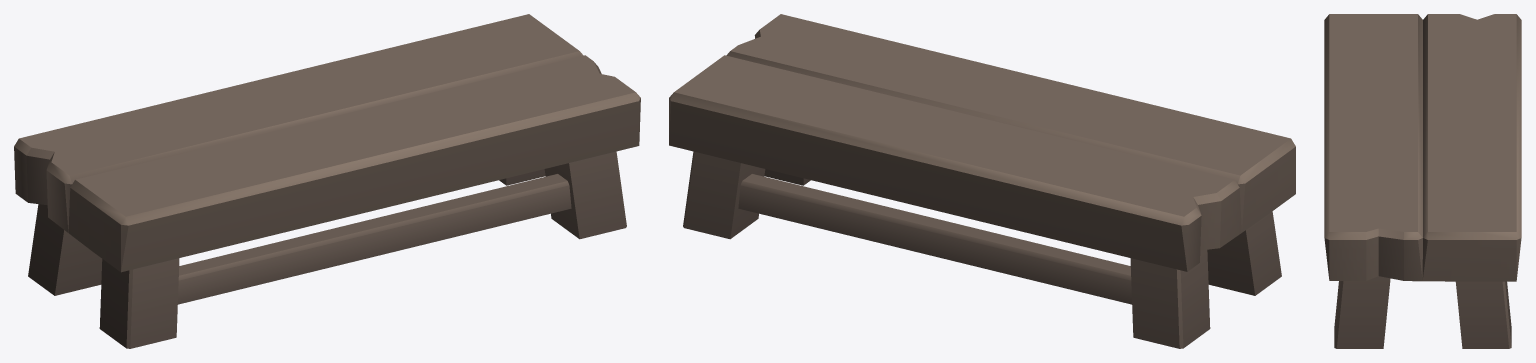
The model's file is bench_straight.glb.
The picture shows the model from 3 angles, left to right: view 1: azimuth 30°, elevation 25°; view 2: azimuth 150°, elevation 25°; view 3: azimuth 270°, elevation 25°; orthographic projection. The views are drawn at different scales.
Parts seen in each view (by area): view 1: bench; view 2: bench; view 3: bench.
Boxes of the visible parts, x1,y1,x2,y2 form: bench: (14, 14, 640, 348); bench: (669, 14, 1295, 348); bench: (1324, 14, 1521, 348).
Bounding box in the file's own units: 2 × 0.5 × 0.75.
1 material, 1 textured.
